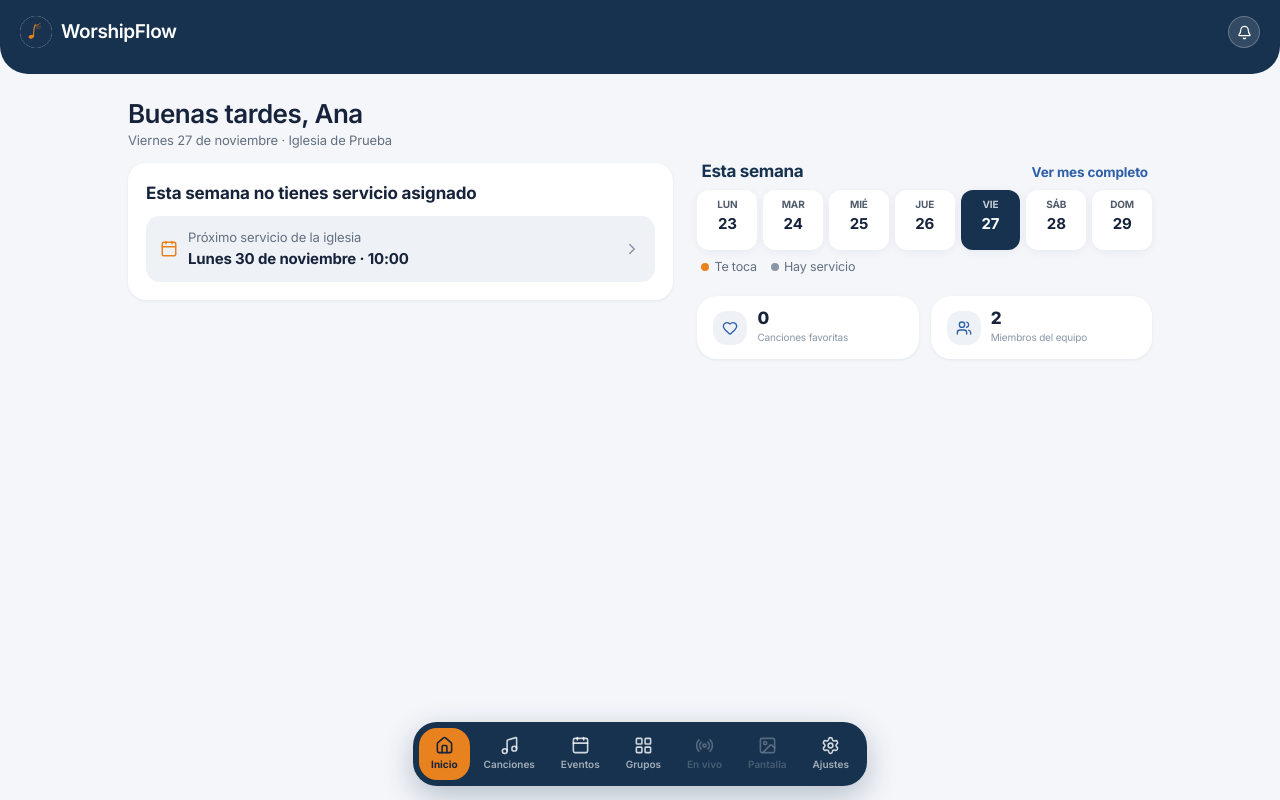
Test: ¿abre la pantalla? › inicia la transmisión y abre la consola en vivo y el panel Escenario
Expected: the text "Miembros del equipo" is shown, [991, 330, 1087, 345]
Click the button "Eventos" at (580, 754), box [549, 728, 612, 780]
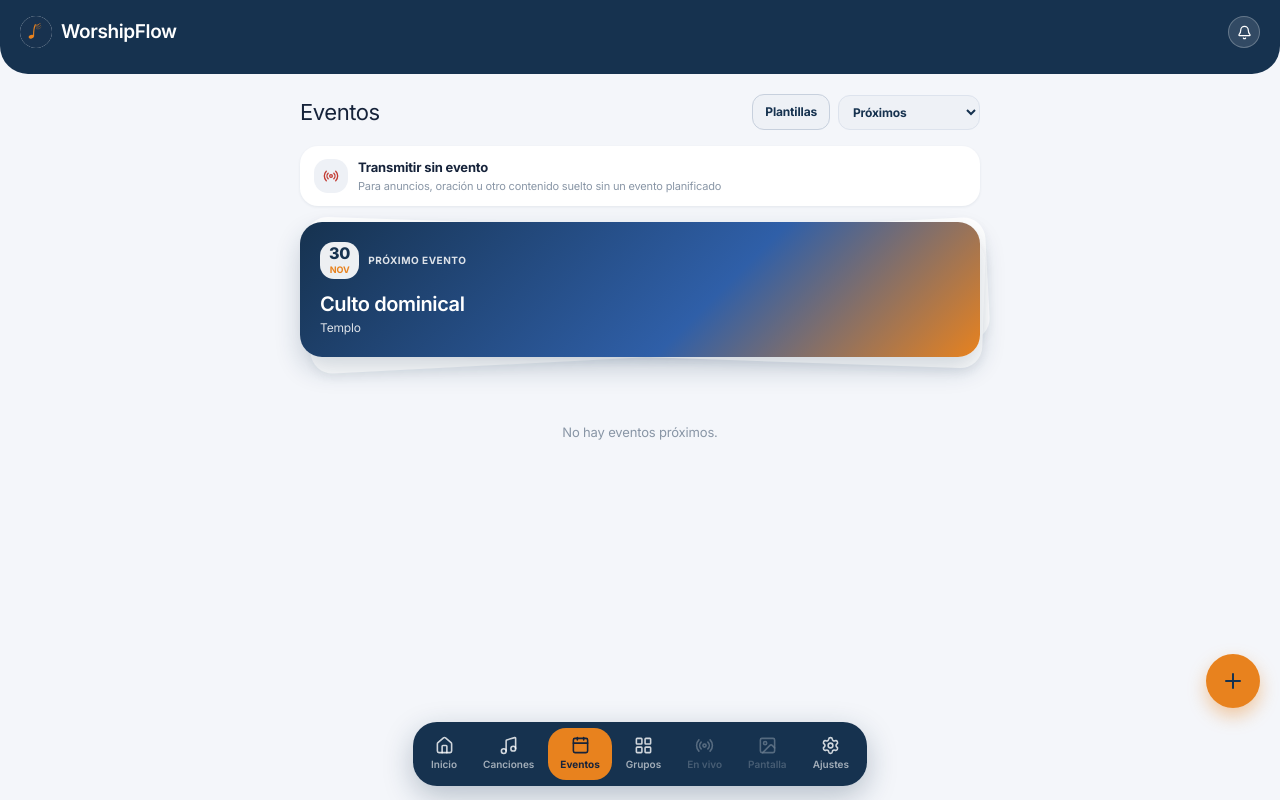
Click the text "Culto dominical" at (392, 304), box [320, 292, 464, 316]
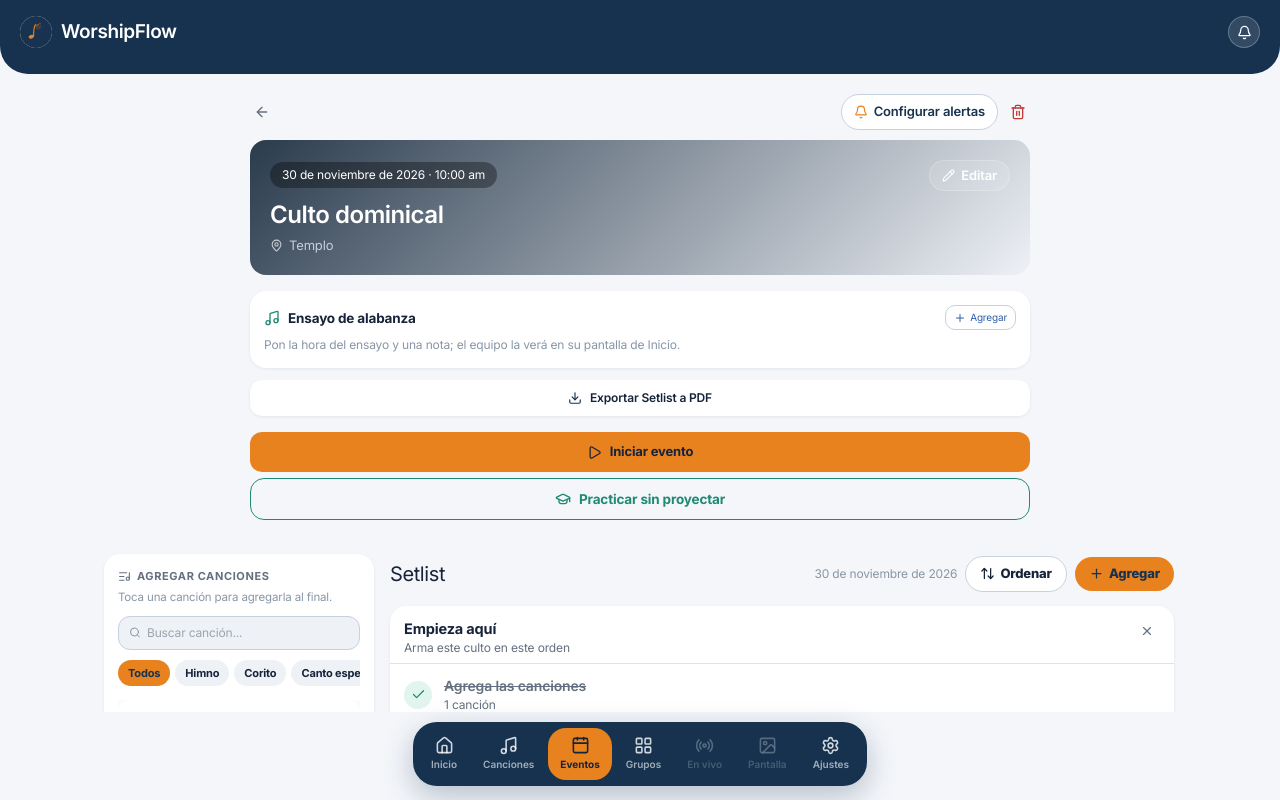
Result: the button "Iniciar evento" is shown
Click the button "Iniciar evento" at (640, 452), box [250, 432, 1030, 472]
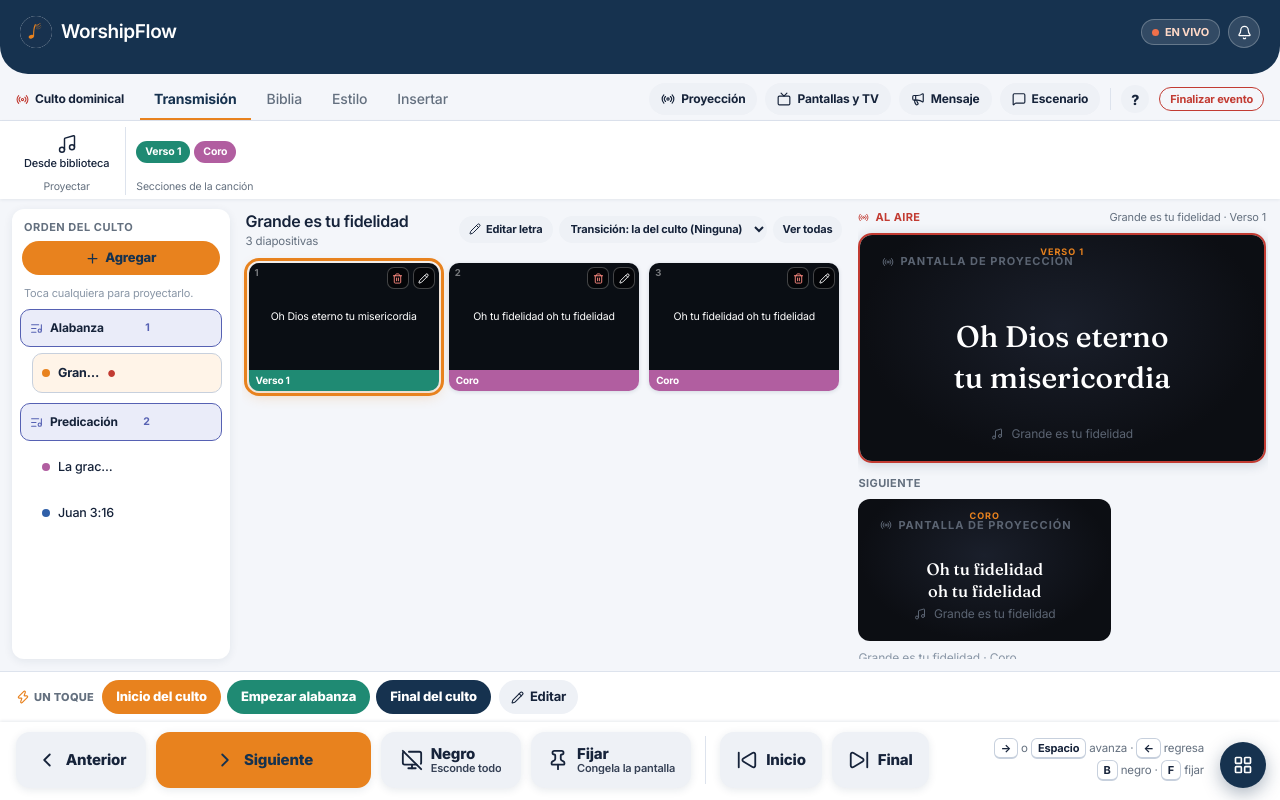
Click the button "Escenario" at (1050, 99), box [1000, 83, 1100, 115]
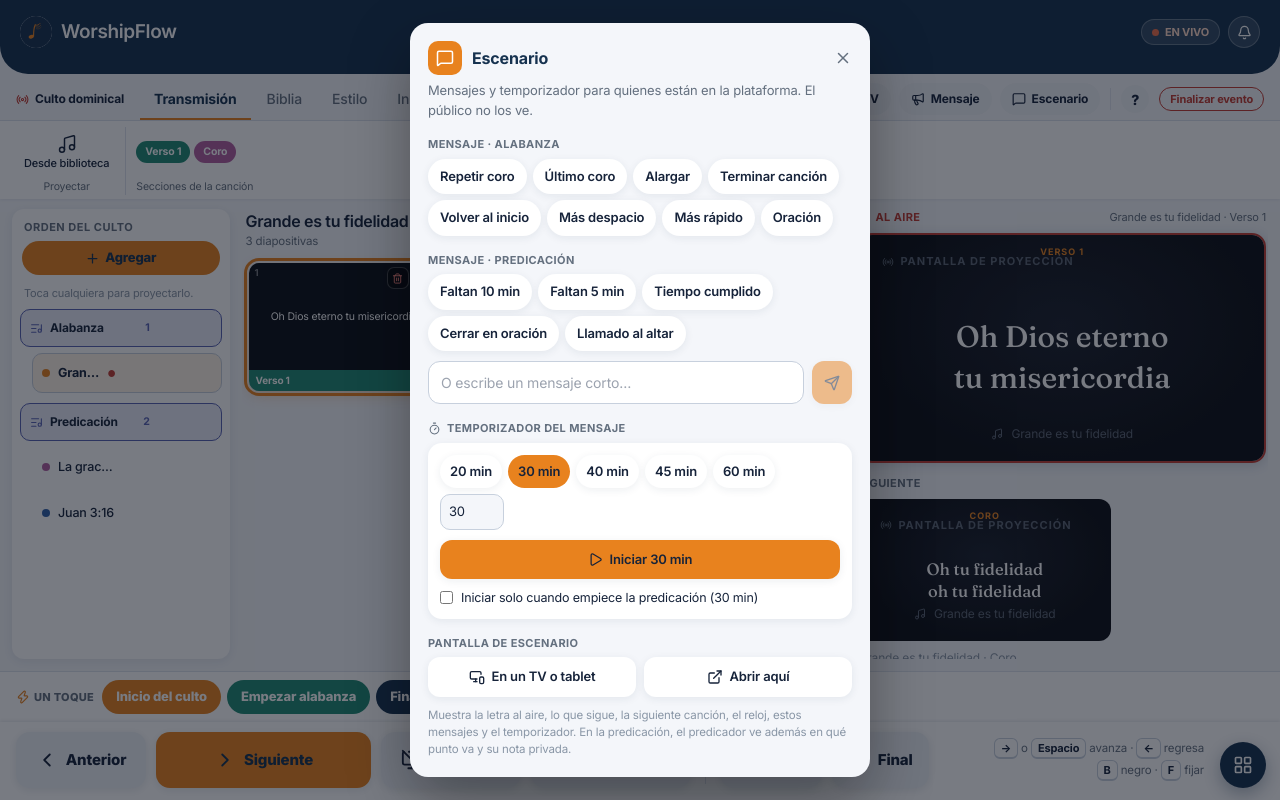
Result: the text "TEMPORIZADOR DEL MENSAJE" is shown at [428, 421, 626, 435]
